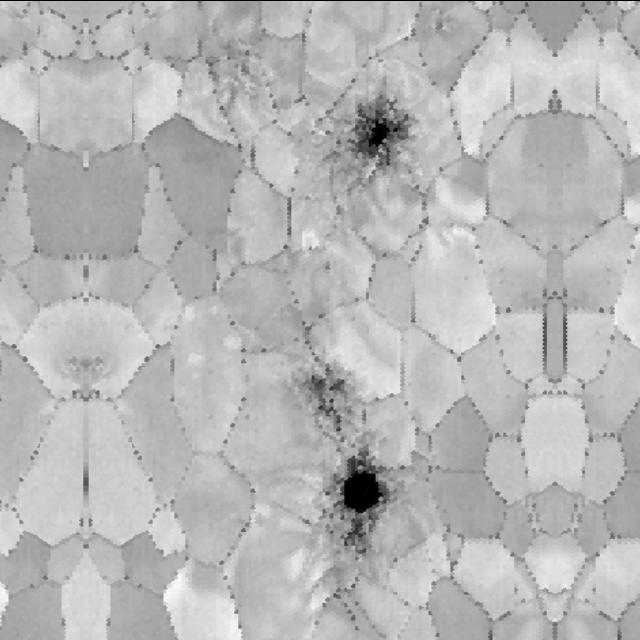good_void: (308, 440, 410, 561), (329, 70, 423, 187), (208, 35, 282, 113), (292, 370, 353, 428), (316, 253, 339, 280), (432, 15, 455, 36)
